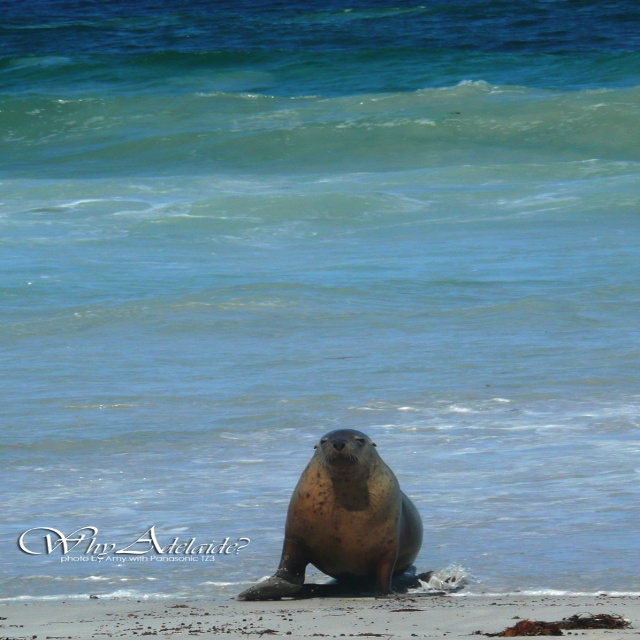Harbor seal: (246, 426, 426, 604)
